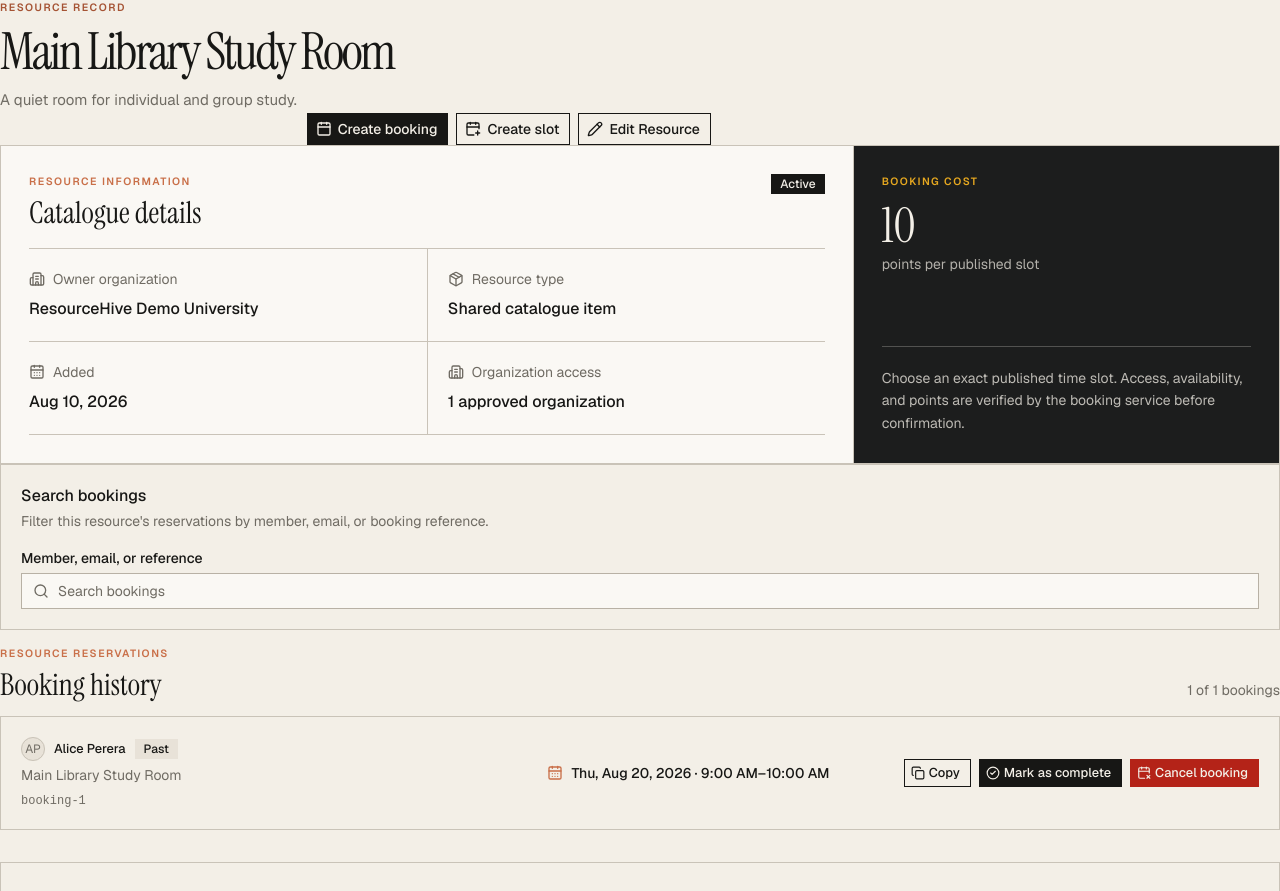
Test: ResourceDetails › lets an administrator cancel a booking and withdraw its slot
Click the button "Cancel booking" at point(1195, 773), box [1130,759,1259,787]
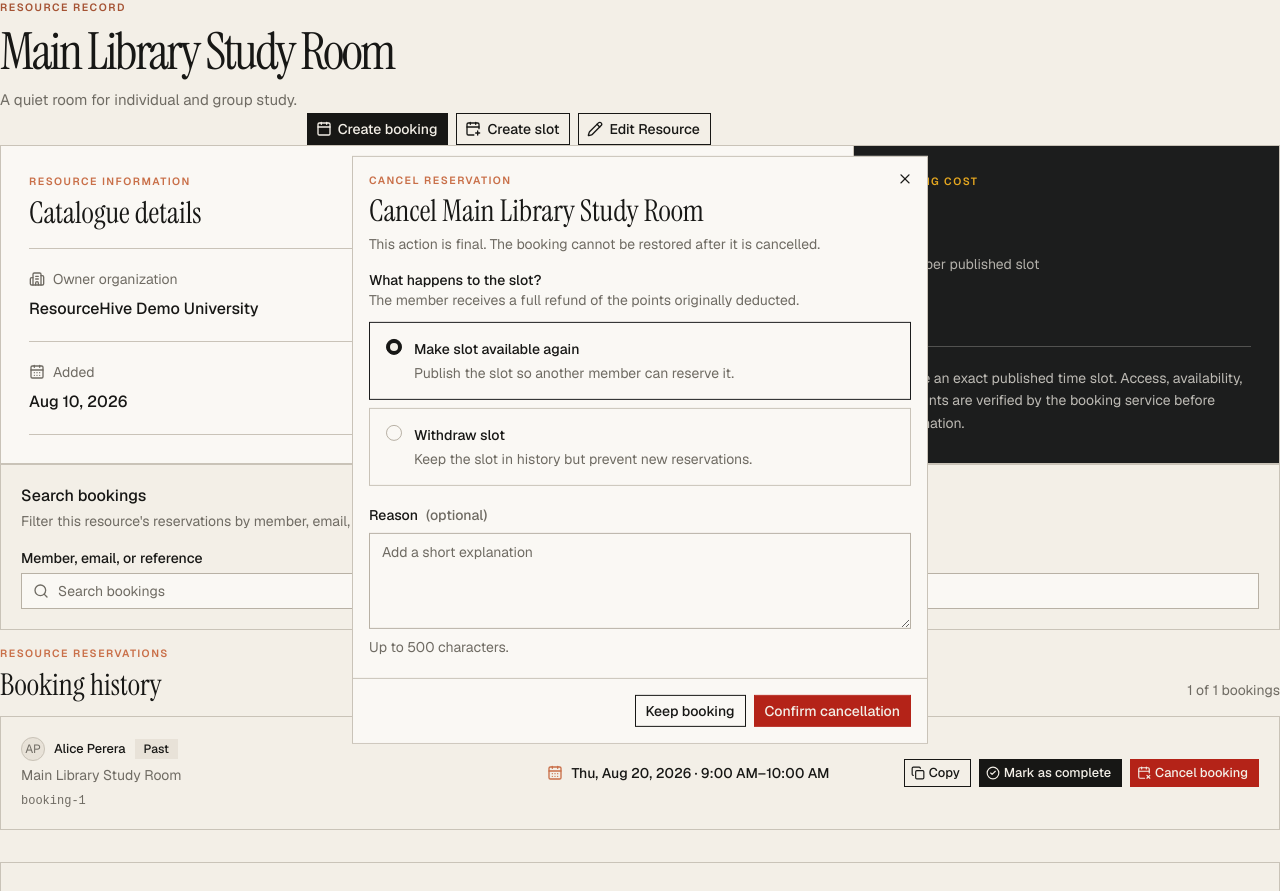
Check: the text "What happens to the slot?" is shown, box [369,270,542,290]
Check: the text "Make slot available again" is shown, box [414,340,579,358]
Click the radio button named "Withdraw slot" next to "Withdraw slot" at point(394, 433), box [386,425,402,441]
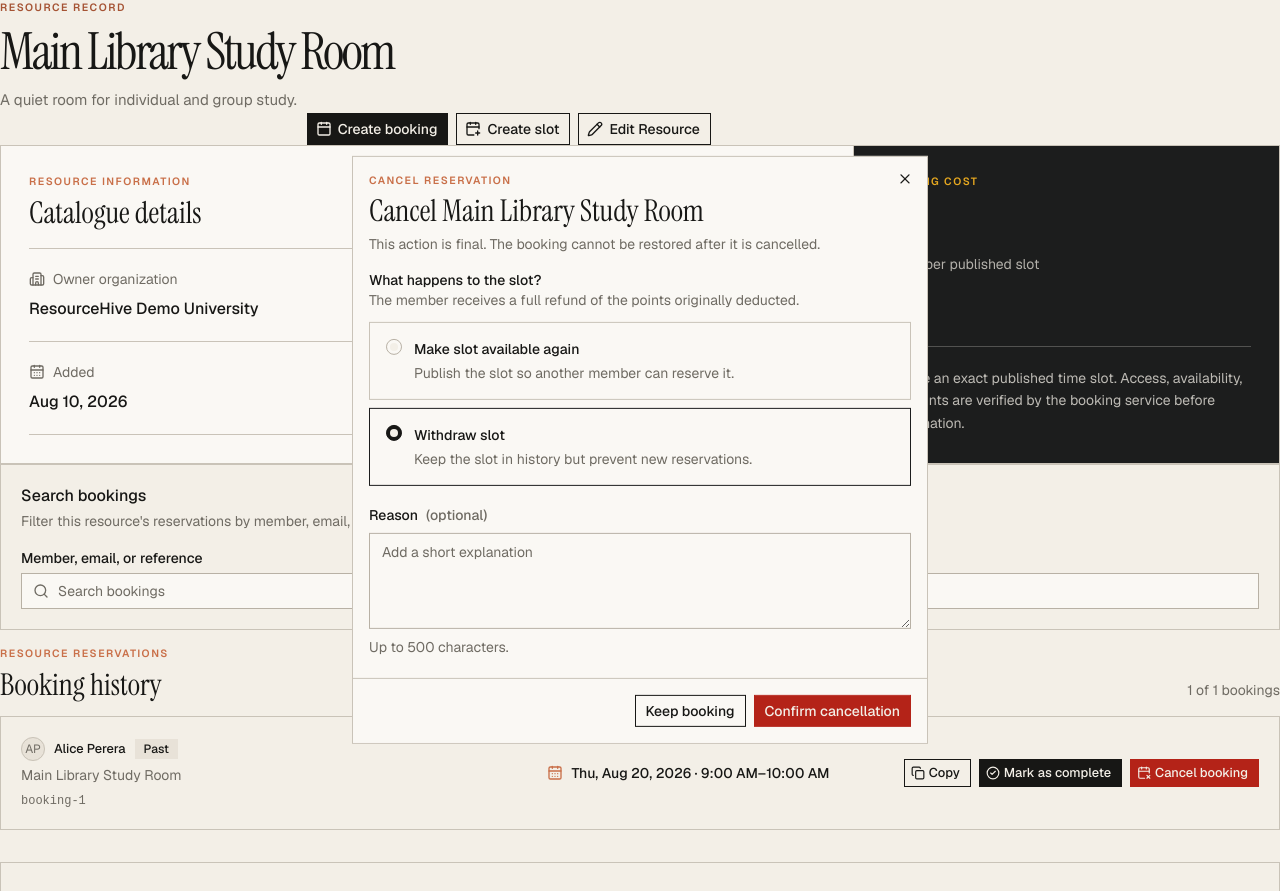
Type "Resource unavailable" into the text box labelled "Reason (optional)" at point(640, 581), box [369,533,911,629]
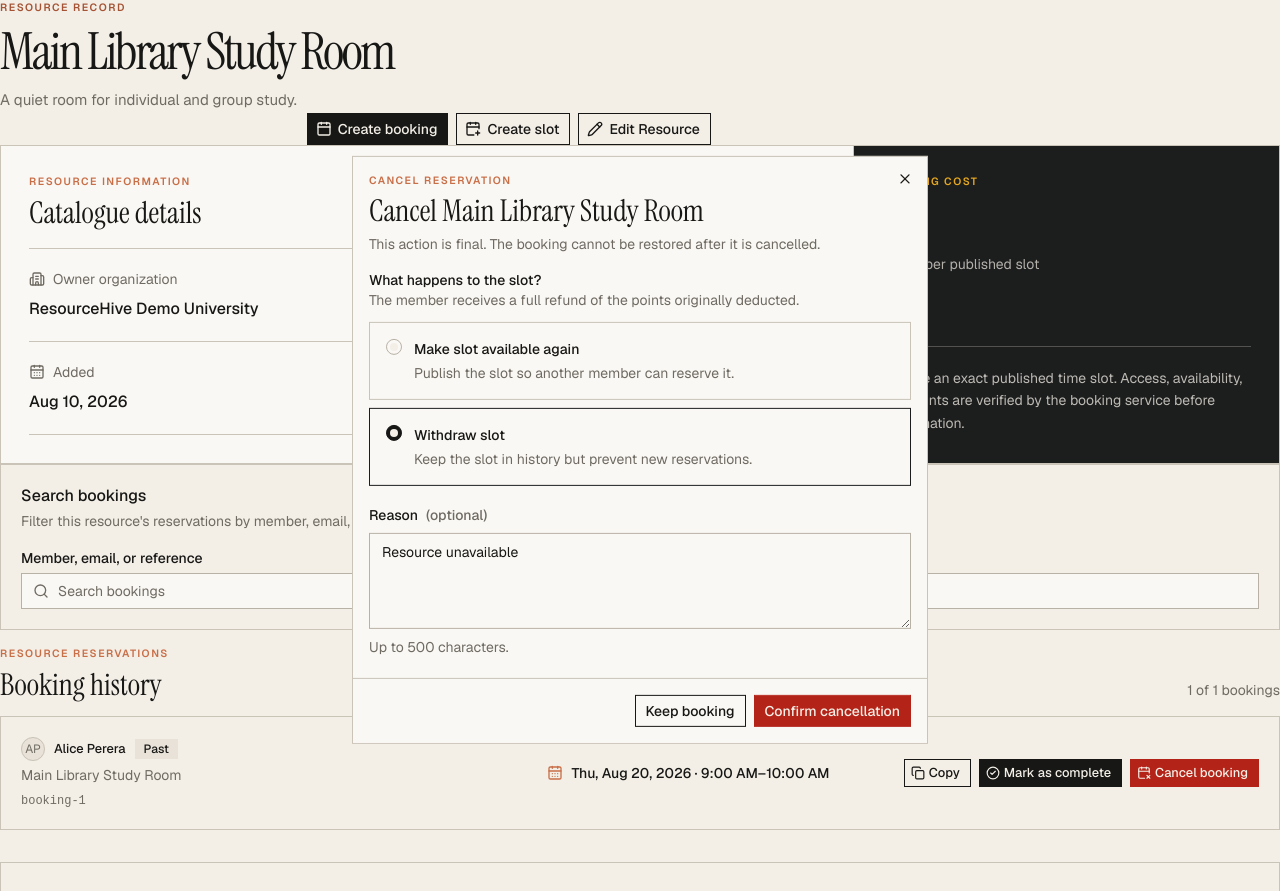
Click the button "Confirm cancellation" at point(832, 711), box [754,695,911,727]
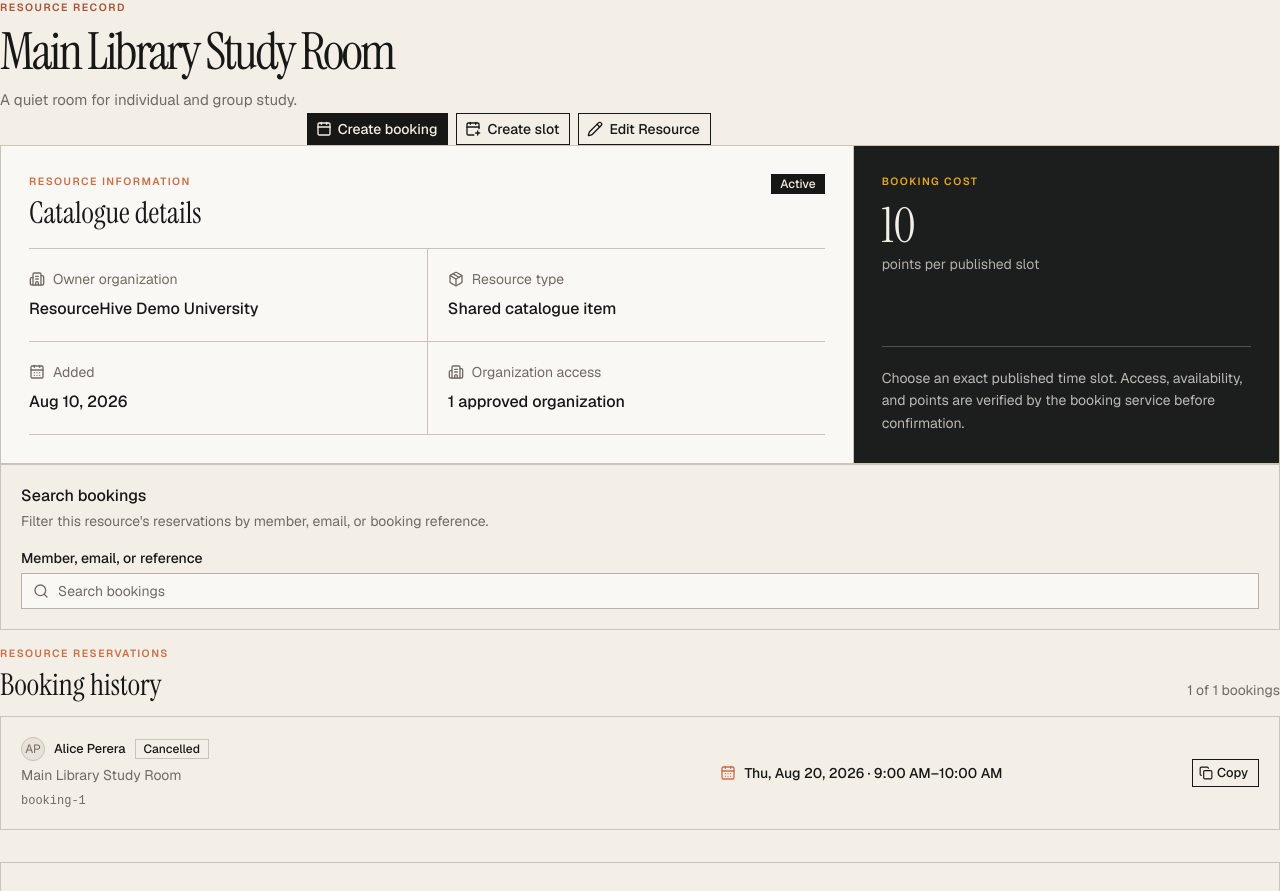
Check: the text "Cancelled" is shown, box [135,739,209,759]
Check: the button "Mark as complete" is gone
